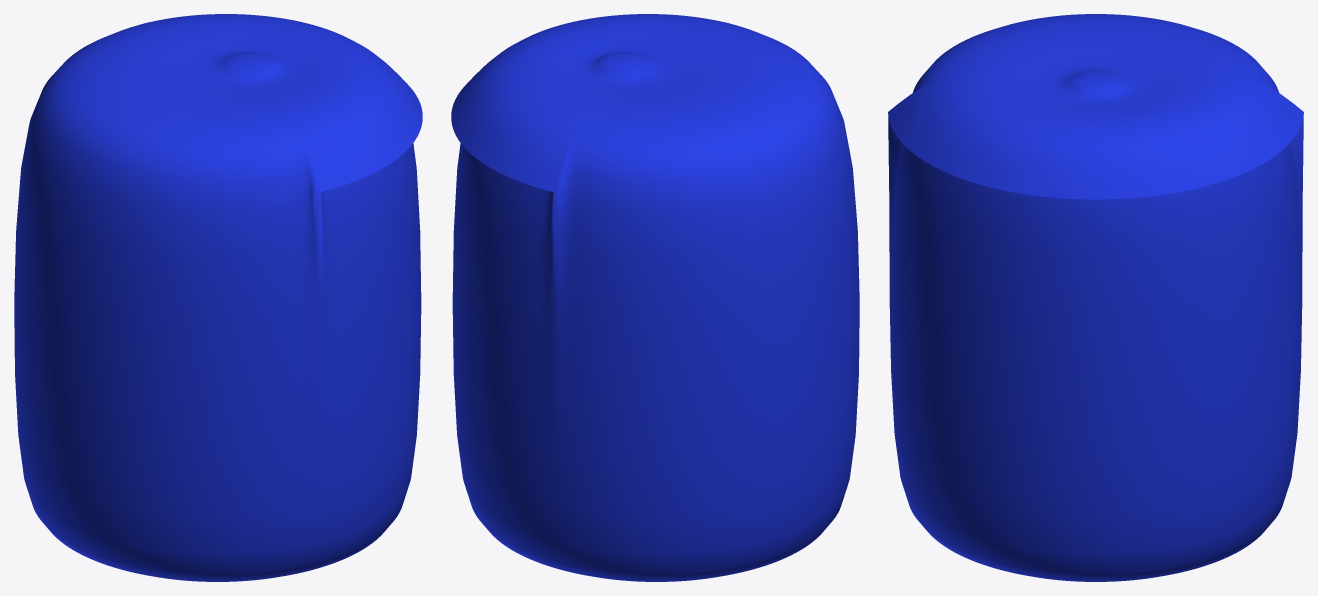
Rendered from blueCan.fbx.
The picture shows the model from 3 angles, left to right: view 1: azimuth 30°, elevation 25°; view 2: azimuth 150°, elevation 25°; view 3: azimuth 270°, elevation 25°; orthographic projection.
Visible parts, largest first — view 1: Cylinder; view 2: Cylinder; view 3: Cylinder.
Boxes of the visible parts, box(x1,y1,x2,y2) form: Cylinder: box(14, 14, 422, 581); Cylinder: box(451, 14, 859, 581); Cylinder: box(888, 14, 1303, 581).
Size of the model in its own units: 9.94 by 12.03 by 10.
